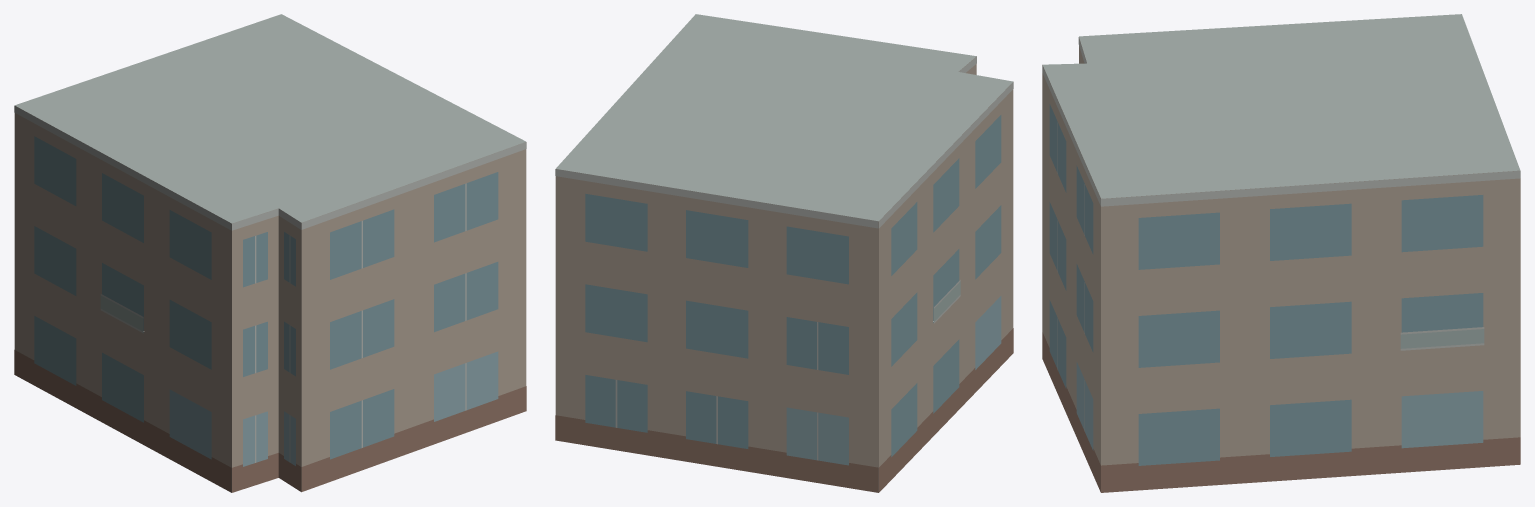
File: survey-upis-32976793.glb
The picture shows the model from 3 angles, left to right: view 1: azimuth 30°, elevation 25°; view 2: azimuth 150°, elevation 25°; view 3: azimuth 270°, elevation 25°; orthographic projection. The views are drawn at different scales.
Visible parts, largest first — view 1: survey-upis-32976793.tmp; view 2: survey-upis-32976793.tmp; view 3: survey-upis-32976793.tmp.
Boxes of the visible parts, <box> form: survey-upis-32976793.tmp: <box>14,14,526,492</box>; survey-upis-32976793.tmp: <box>555,14,1013,492</box>; survey-upis-32976793.tmp: <box>1042,14,1520,492</box>.
Size of the model in its own units: 12.27 by 9.1 by 13.42.
